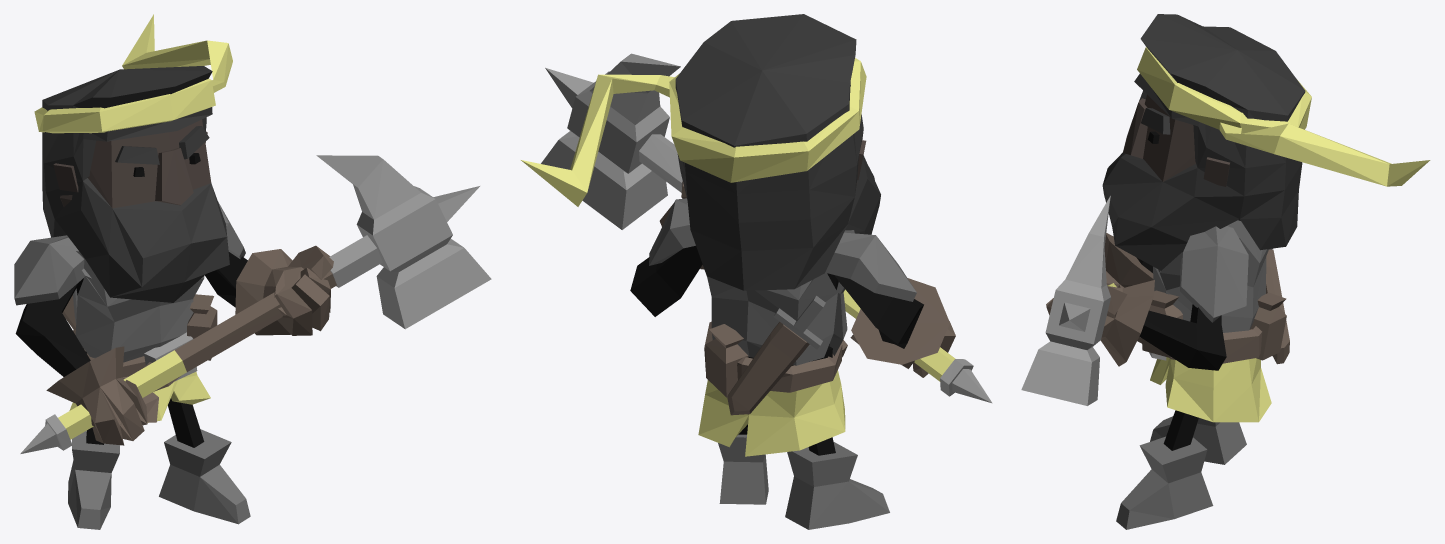
File: yellowGuy.fbx
3 views of the same model, side by side, from view 1: azimuth 30°, elevation 25°; view 2: azimuth 150°, elevation 25°; view 3: azimuth 270°, elevation 25° (orthographic). The views are drawn at different scales.
Parts seen in each view (by area): view 1: pPlane2_black_hair_0__ID154, pPlane2_dark_metal_0__ID38, pPlane2_light_metal_0__ID73, pPlane2_brown_0__ID26, pPlane2_yellow_0__ID131, pPlane2_skin_dk_0__ID143, pPlane2_lambert2_0__ID50; view 2: pPlane2_black_hair_0__ID154, pPlane2_dark_metal_0__ID38, pPlane2_yellow_0__ID131, pPlane2_light_metal_0__ID73, pPlane2_brown_0__ID26, pPlane2_lambert2_0__ID50; view 3: pPlane2_black_hair_0__ID154, pPlane2_dark_metal_0__ID38, pPlane2_yellow_0__ID131, pPlane2_light_metal_0__ID73, pPlane2_brown_0__ID26, pPlane2_lambert2_0__ID50, pPlane2_skin_dk_0__ID143.
Part boxes in pixels (left/top/right/bottom): pPlane2_black_hair_0__ID154: left=42, top=66, right=229, bottom=302; pPlane2_dark_metal_0__ID38: left=14, top=201, right=250, bottom=529; pPlane2_light_metal_0__ID73: left=20, top=155, right=491, bottom=453; pPlane2_brown_0__ID26: left=46, top=245, right=336, bottom=445; pPlane2_yellow_0__ID131: left=34, top=14, right=232, bottom=439; pPlane2_skin_dk_0__ID143: left=53, top=119, right=211, bottom=208; pPlane2_lambert2_0__ID50: left=15, top=153, right=247, bottom=447; pPlane2_black_hair_0__ID154: left=675, top=14, right=880, bottom=290; pPlane2_dark_metal_0__ID38: left=649, top=198, right=916, bottom=529; pPlane2_yellow_0__ID131: left=521, top=58, right=955, bottom=456; pPlane2_light_metal_0__ID73: left=541, top=53, right=992, bottom=403; pPlane2_brown_0__ID26: left=659, top=181, right=955, bottom=415; pPlane2_lambert2_0__ID50: left=630, top=245, right=923, bottom=455; pPlane2_black_hair_0__ID154: left=1102, top=14, right=1305, bottom=270; pPlane2_dark_metal_0__ID38: left=1116, top=220, right=1272, bottom=529; pPlane2_yellow_0__ID131: left=1107, top=47, right=1430, bottom=422; pPlane2_light_metal_0__ID73: left=1021, top=195, right=1166, bottom=405; pPlane2_brown_0__ID26: left=1046, top=233, right=1289, bottom=366; pPlane2_lambert2_0__ID50: left=1136, top=131, right=1240, bottom=450; pPlane2_skin_dk_0__ID143: left=1123, top=94, right=1230, bottom=186.
Size of the model in its own units: 316 by 307 by 249.
